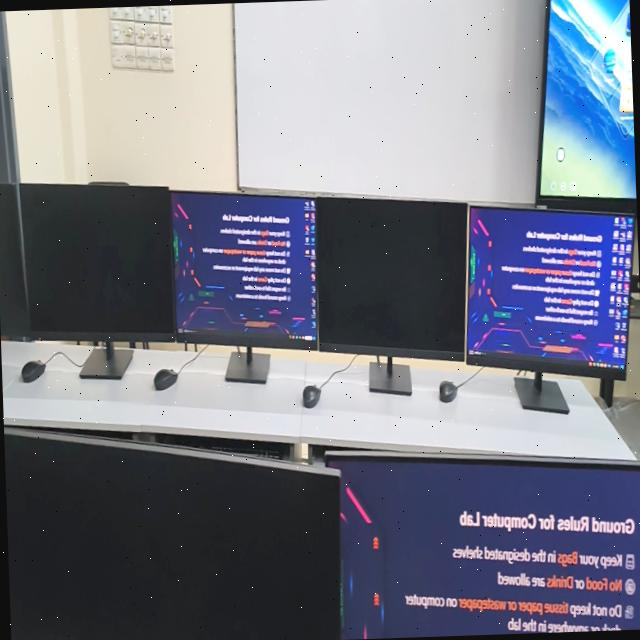Digital board: (538, 0, 636, 198)
Monitor: (4, 430, 341, 640), (327, 453, 640, 639), (465, 206, 633, 384), (316, 197, 467, 358), (22, 184, 175, 340), (171, 192, 317, 347), (0, 184, 29, 338)
Mouse: (21, 360, 45, 382), (154, 368, 178, 390), (303, 384, 321, 408), (439, 381, 457, 402)
